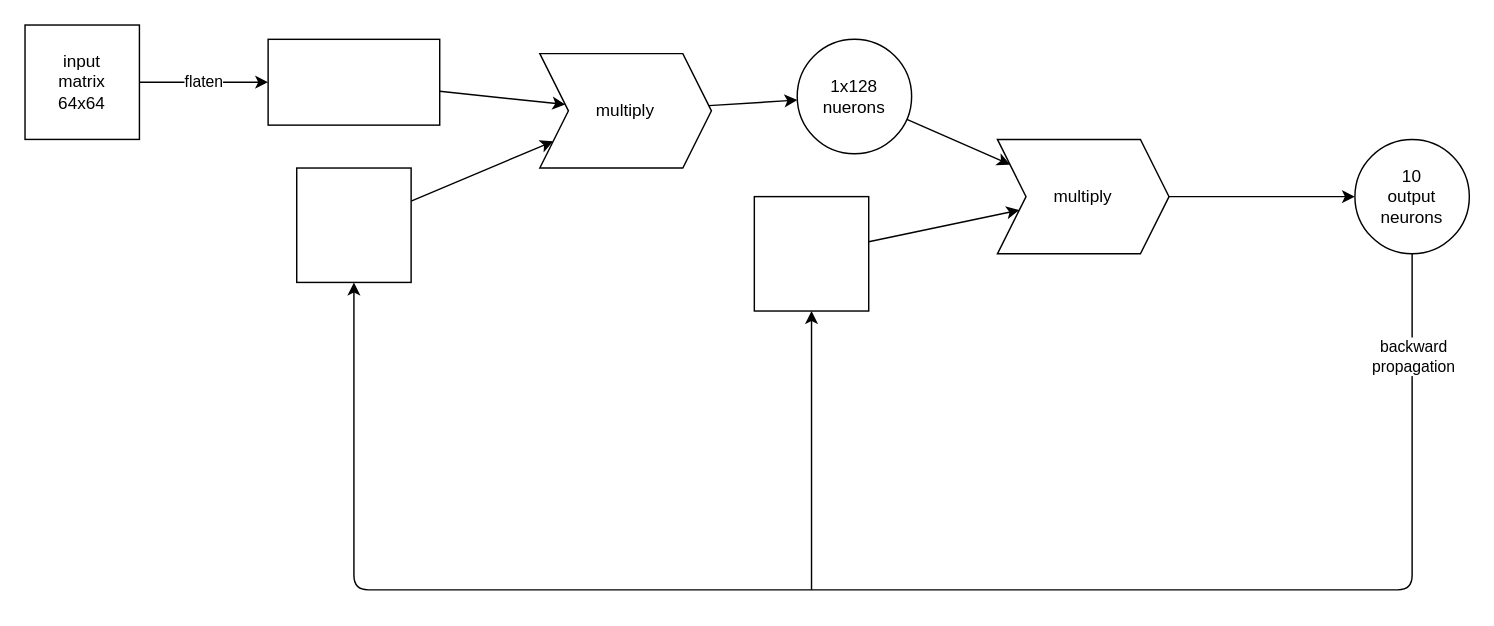
Some shapes in this 1494 by 626 pixel diagram are drawn without their labels. Each missing label, with the box of its shape:
128x10 weight matrix: (753, 195, 869, 311)
input vector 1x4096: (267, 38, 440, 125)
weight matrix 4096x128: (295, 167, 411, 282)
